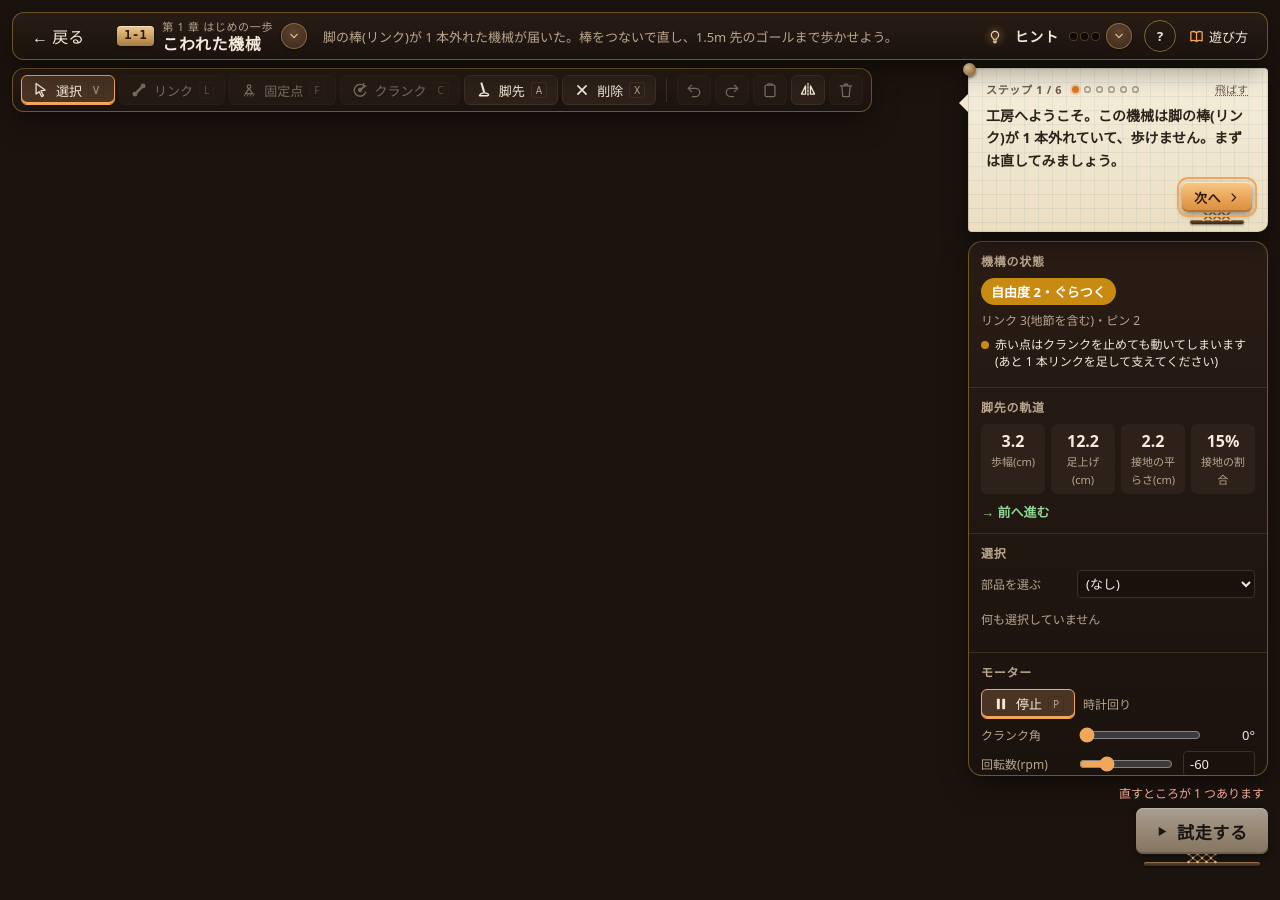
Test: 設計画面の HUD(INT-7a) › 飛ばすと吹き出しが消え、状況の一言が出る。× で閉じた一言はもう出ない
Click the button with aria-label "チュートリアルを飛ばす".
click(1232, 89)  # box [1211,79,1252,99]
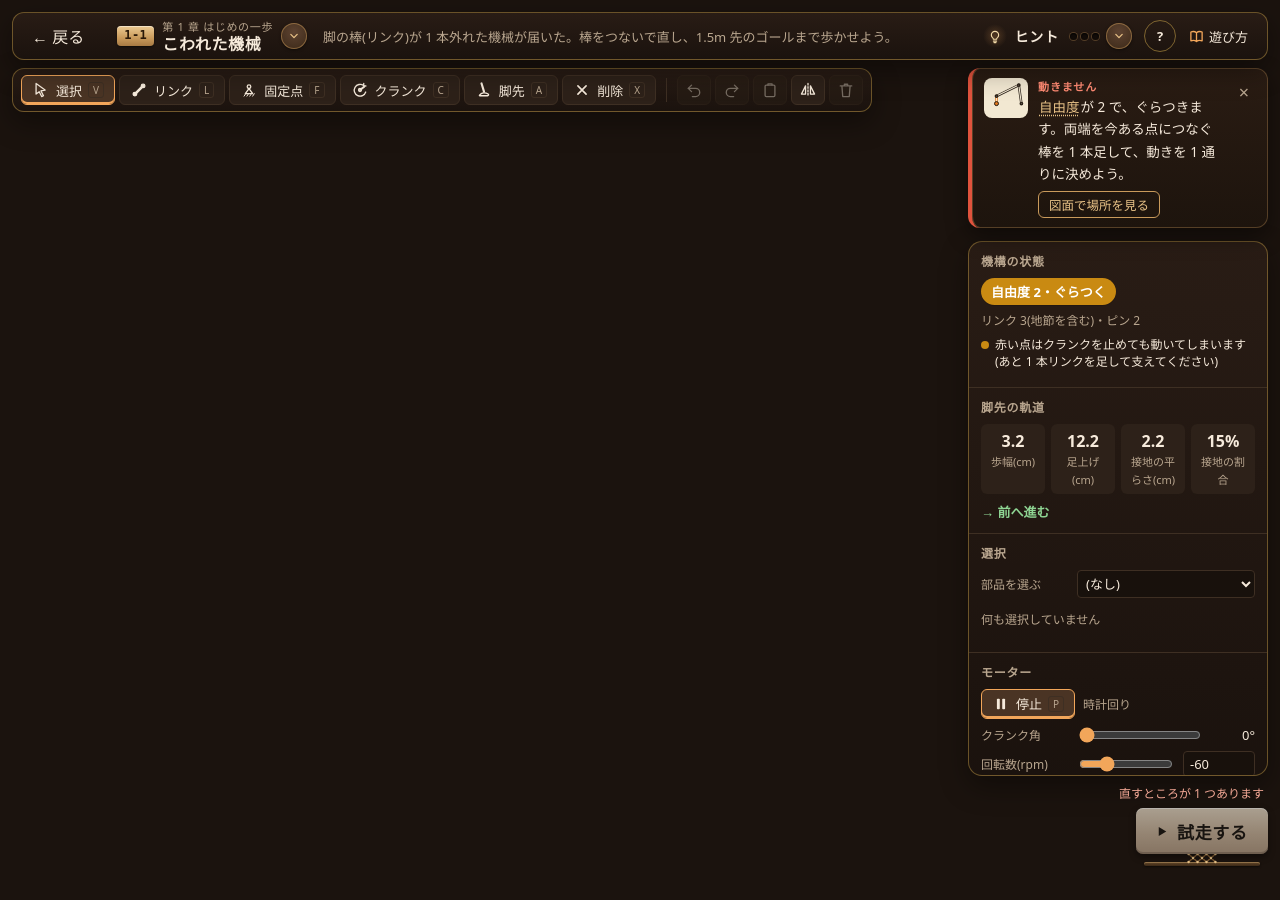
Now the element "チュートリアル" is gone
# 場所を示す:ぐらつく点を選ぶ
Click the button "図面で場所を見る".
click(1099, 205)  # box [1038,191,1160,218]
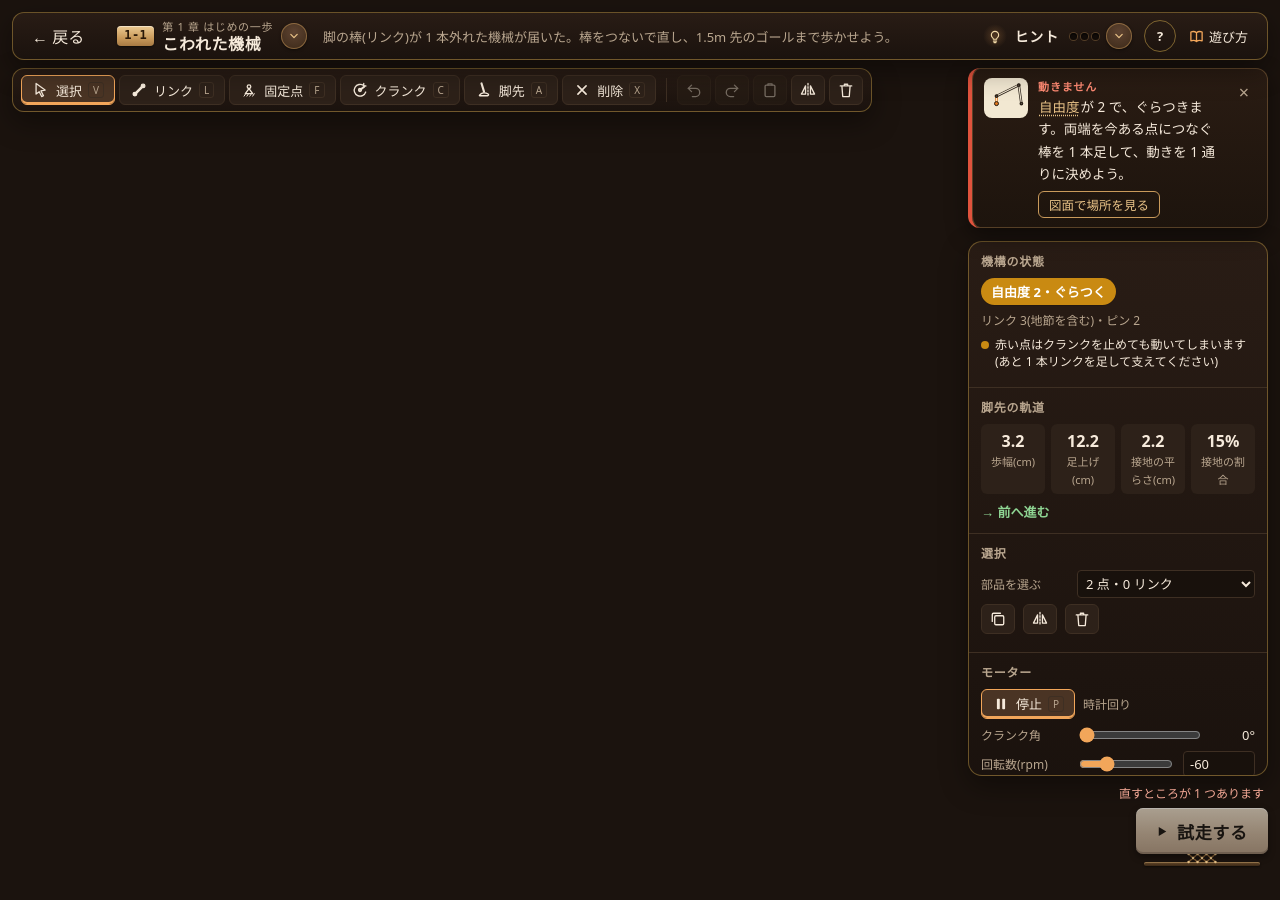
Click the button named "この一言を閉じる".
click(1244, 92)  # box [1230,78,1258,106]
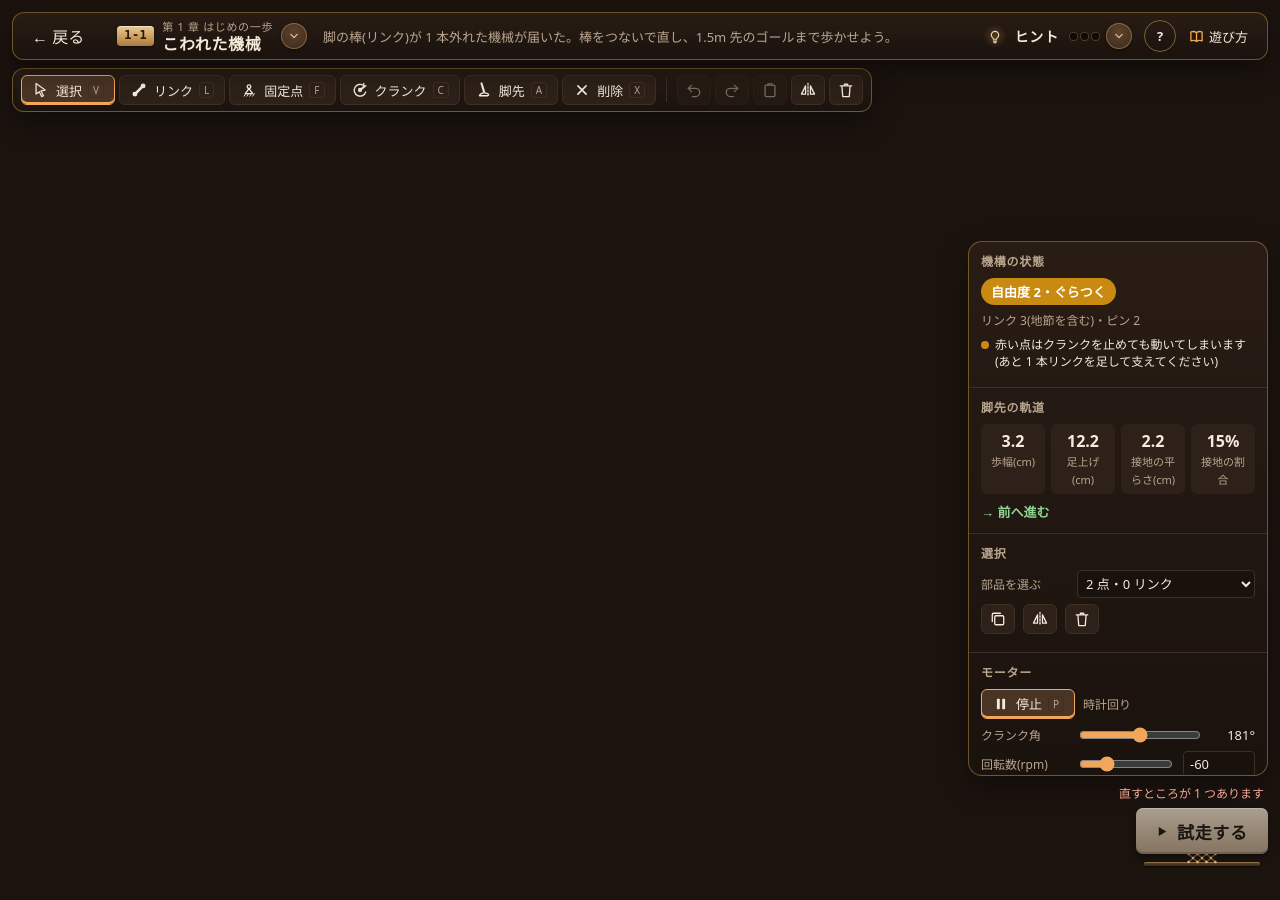
Now the element with class "gd-tip" is gone
